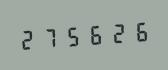five: (62, 21, 83, 50)
seven: (39, 23, 60, 51)
six: (128, 16, 149, 45), (84, 20, 105, 48)
two: (17, 24, 38, 53), (106, 18, 127, 46)
